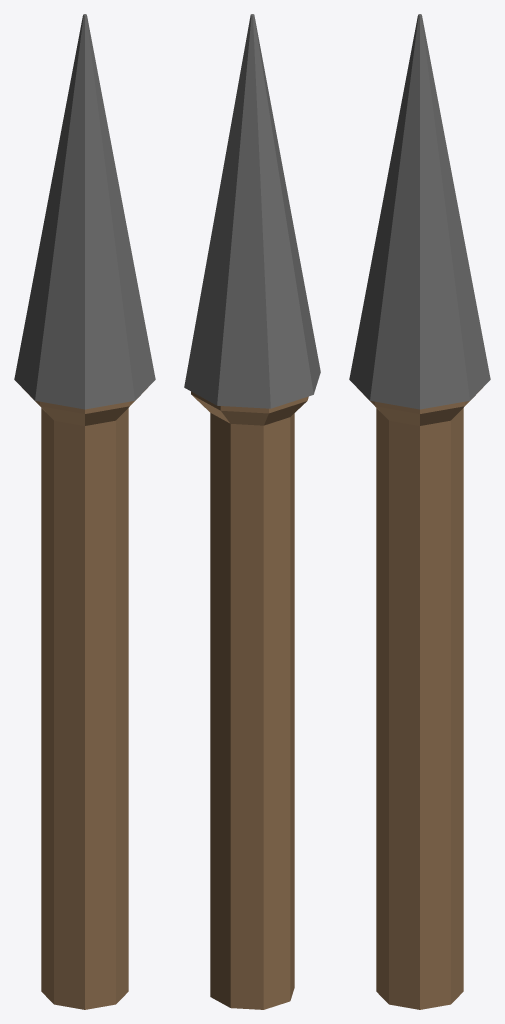
File: Arrow_low.fbx
The picture shows the model from 3 angles, left to right: view 1: azimuth 90°, elevation 25°; view 2: azimuth 150°, elevation 25°; view 3: azimuth 270°, elevation 25°; orthographic projection.
Parts seen in each view (by area): view 1: Arrow_low; view 2: Arrow_low; view 3: Arrow_low.
Boxes of the visible parts, bbox=[...] form: Arrow_low: bbox=[14, 14, 155, 1009]; Arrow_low: bbox=[184, 14, 320, 1009]; Arrow_low: bbox=[349, 14, 490, 1009].
Bounding box in the file's own units: 0.0424 × 0.323 × 0.0424.
